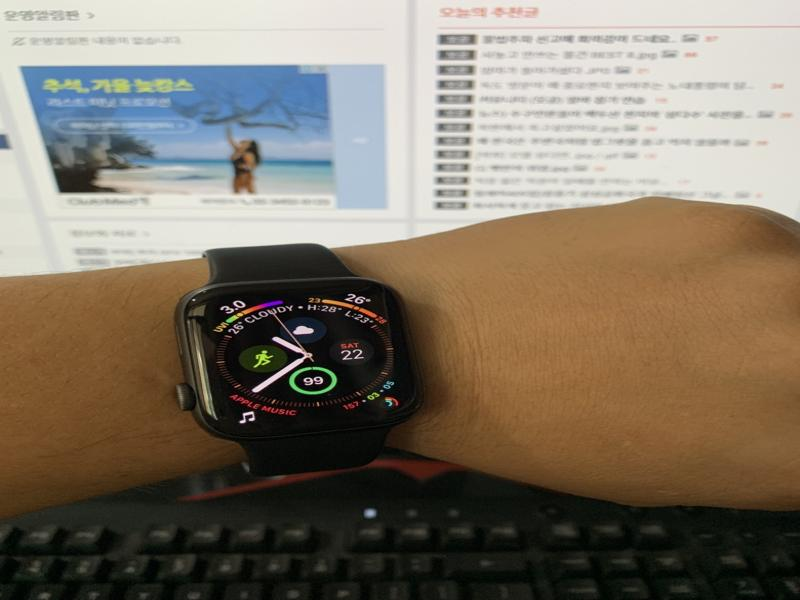watch: (170, 243, 426, 475)
